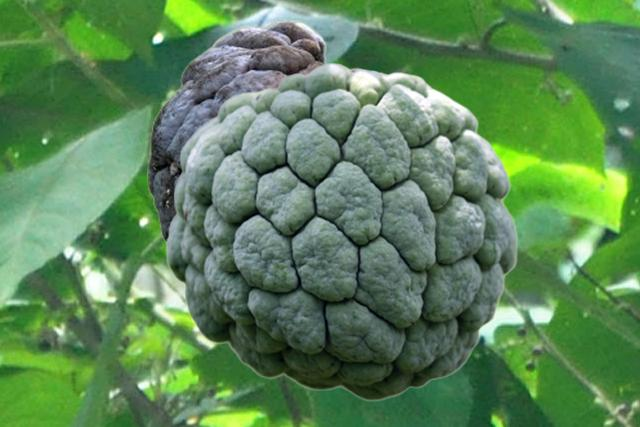atis: (165, 62, 517, 401), (147, 18, 390, 245)
